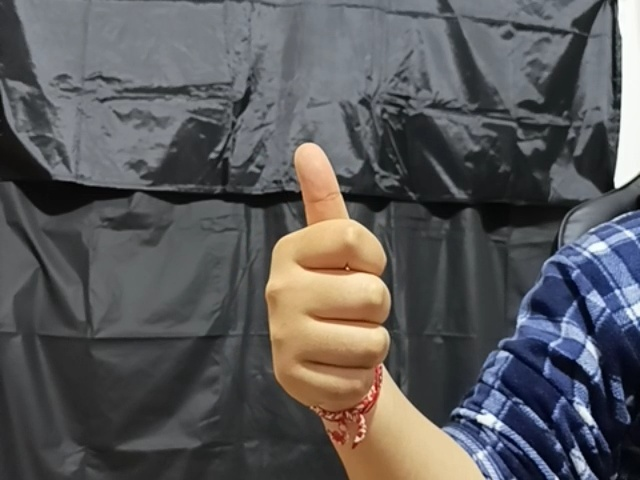A: (259, 137, 390, 410)
